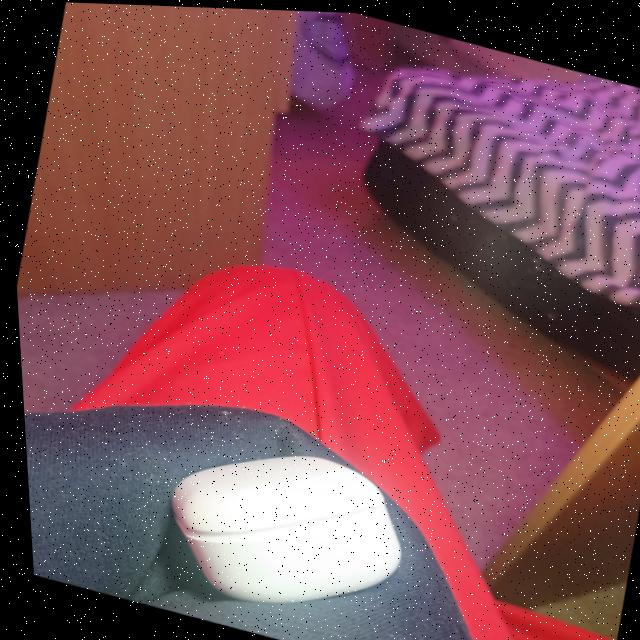headphones: (165, 454, 394, 601)
